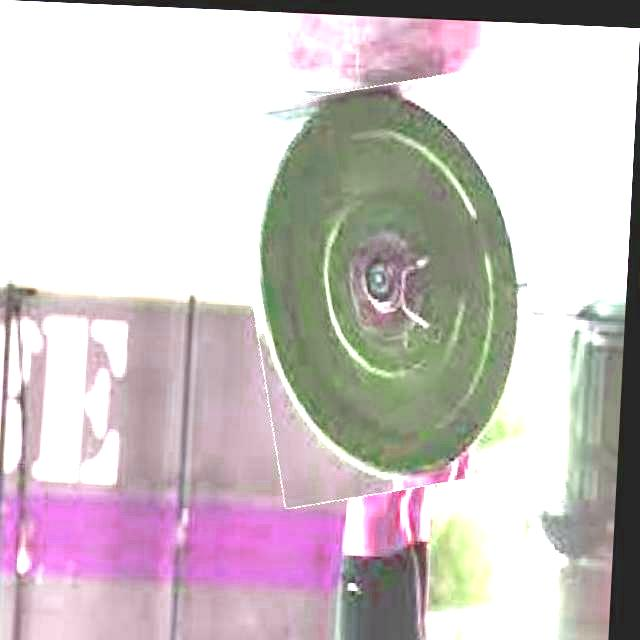barbell: (228, 66, 559, 502)
